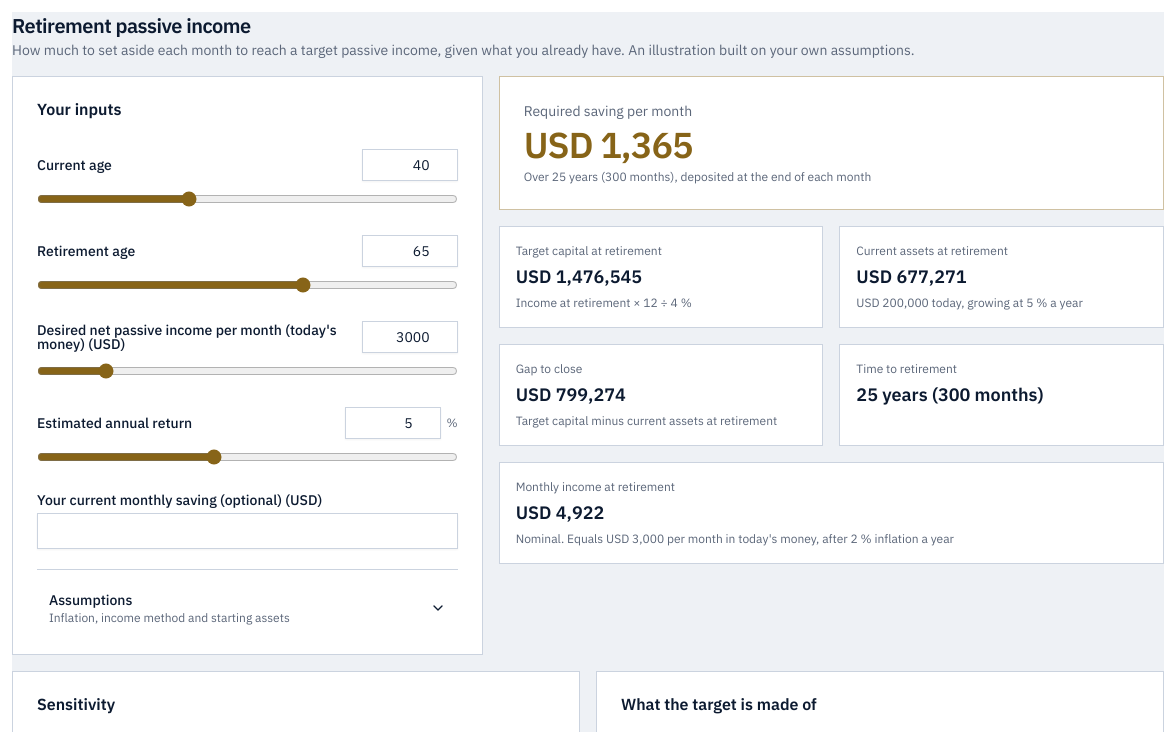
Scenario: sliders and fields › typing in a field moves its slider and exposes aria-valuetext
This screenshot has width=1164, height=732.
Replace the text in the number field labelled "Estimated annual return" with "6.5": (392, 423) [344, 407, 440, 439]
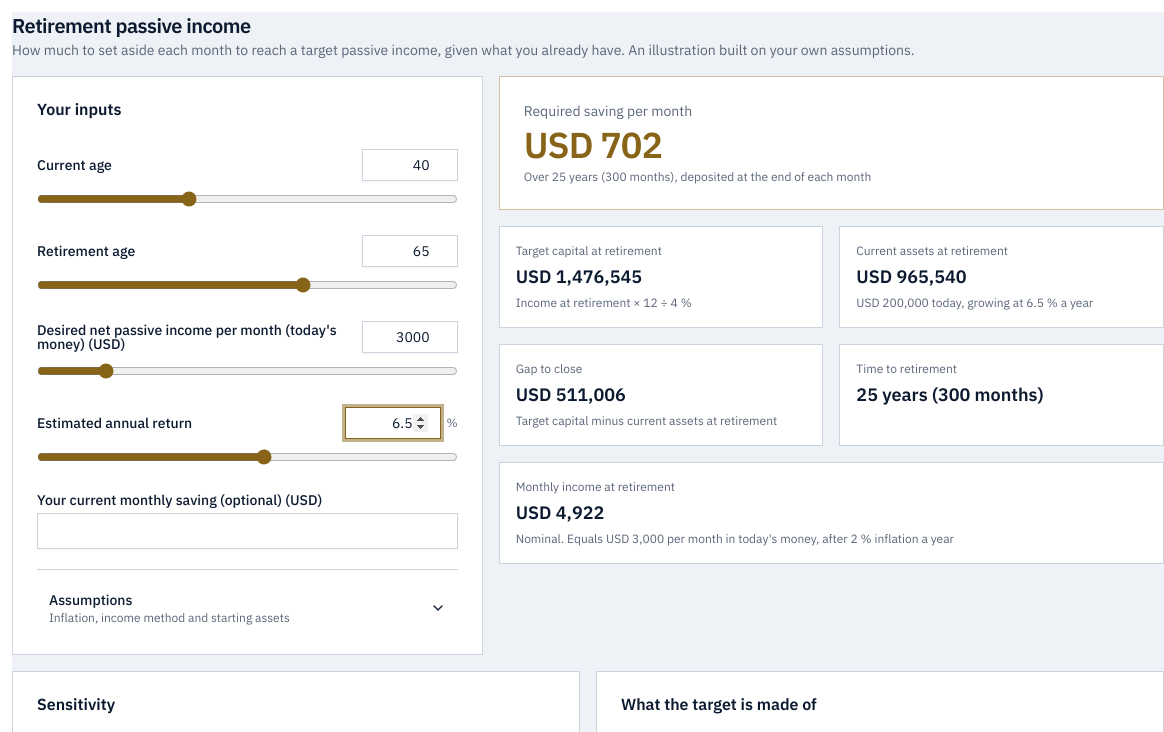
Expected: the slider named "estimated annual return" holds "6.5", [37, 447, 458, 467]
